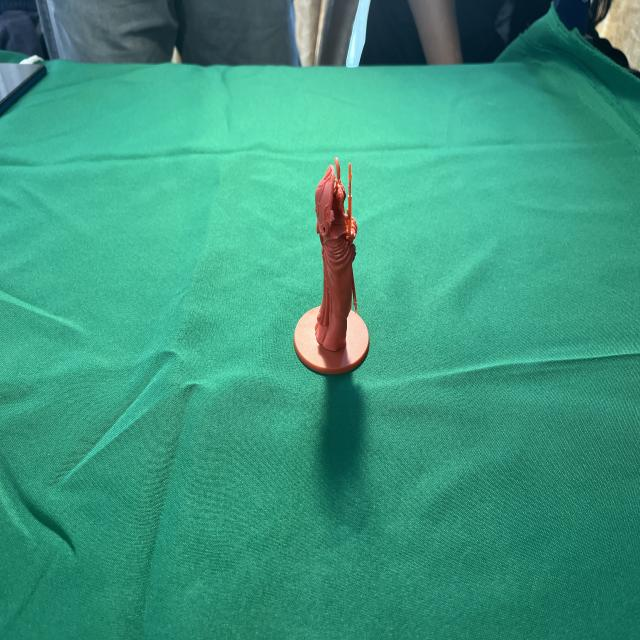amon: (290, 147, 373, 379)
